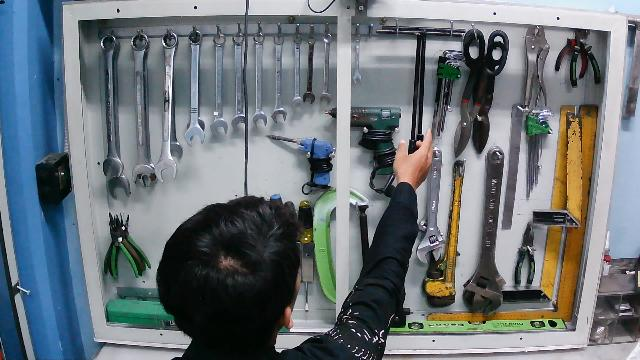kunci_l: (429, 45, 466, 147)
